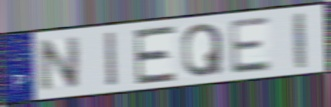E: (227, 15, 274, 77), (132, 23, 178, 86)
I: (291, 10, 308, 71), (103, 29, 120, 89)
N: (38, 34, 82, 94)
Q: (181, 22, 225, 80)
